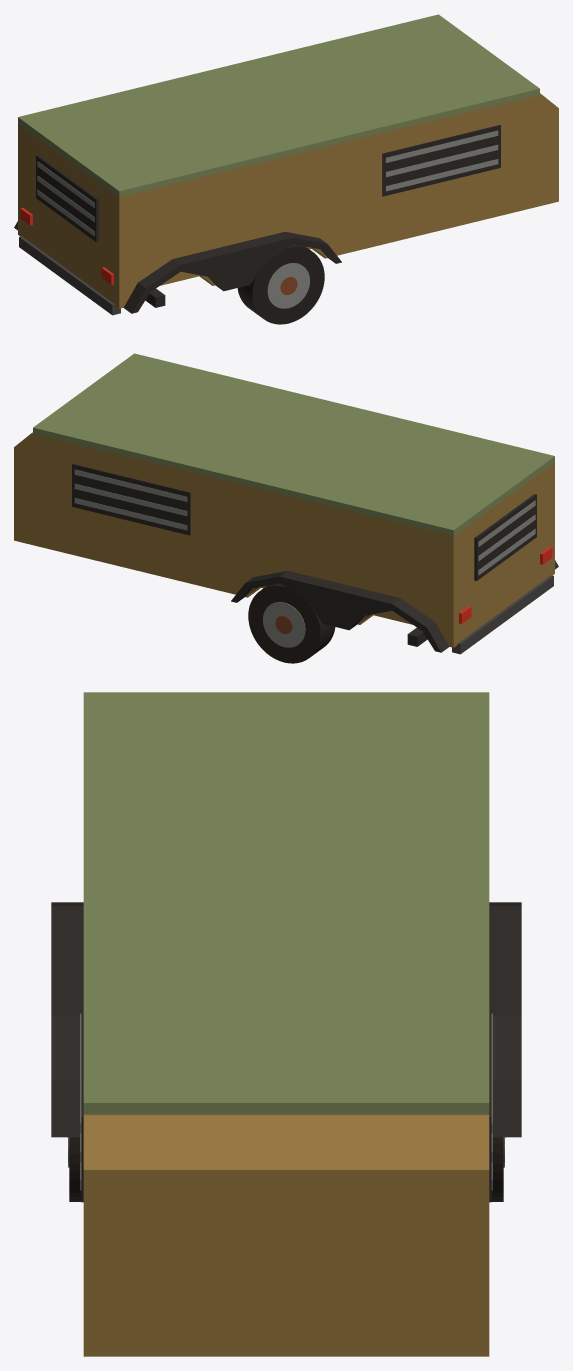
The model's file is base_sorokonoga_rear.glb.
3 views of the same model, one above another, from view 1: azimuth 30°, elevation 25°; view 2: azimuth 150°, elevation 25°; view 3: azimuth 270°, elevation 25° (orthographic). The views are drawn at different scales.
Visible parts, largest first — view 1: base_sorokonoga_rear; view 2: base_sorokonoga_rear; view 3: base_sorokonoga_rear.
Part boxes in pixels (x1,y1,x2,y2): base_sorokonoga_rear: [14, 14, 558, 324]; base_sorokonoga_rear: [14, 353, 558, 663]; base_sorokonoga_rear: [51, 692, 521, 1356].
Size of the model in its own units: 6.3 by 2.31 by 2.9.
